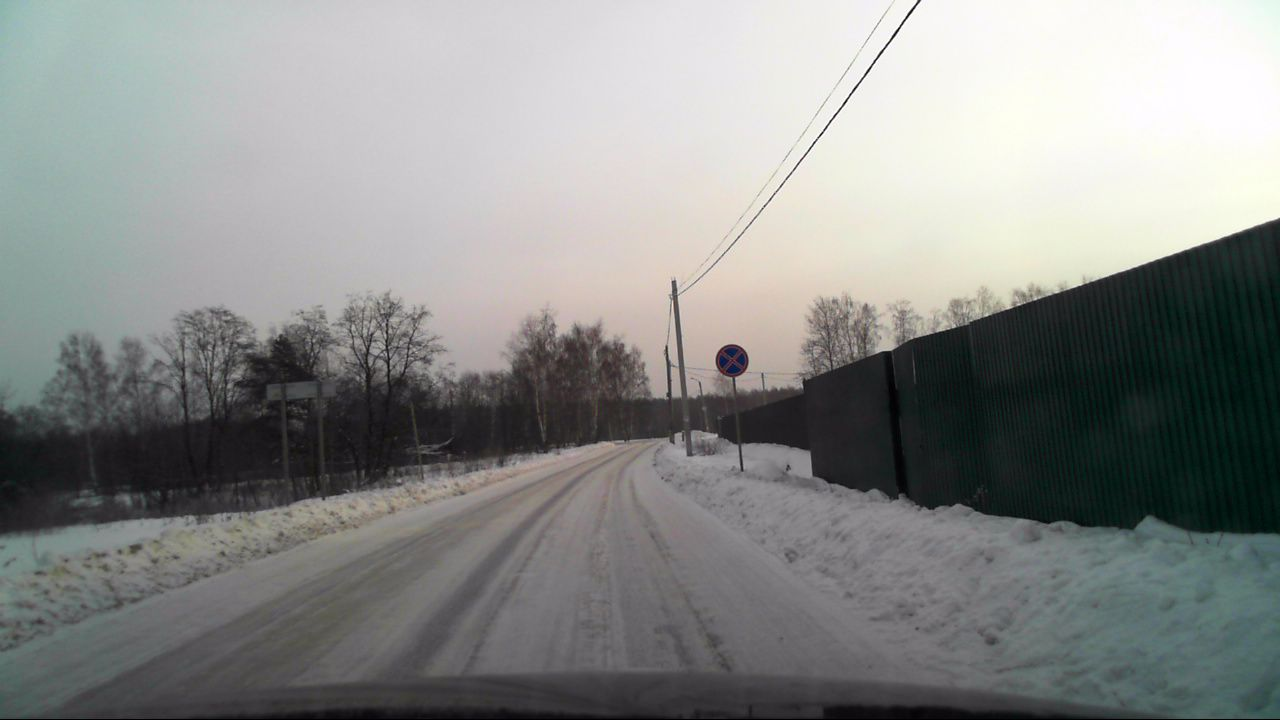No Parking: (714, 343, 748, 377)
